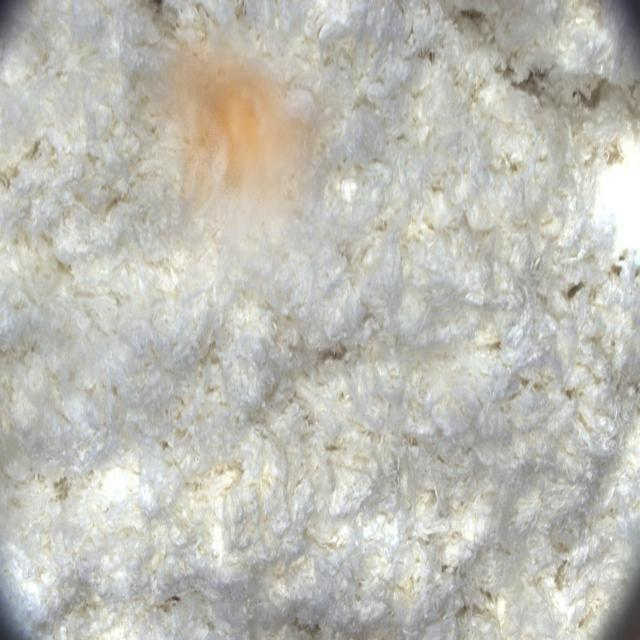dust: (122, 19, 344, 298)
